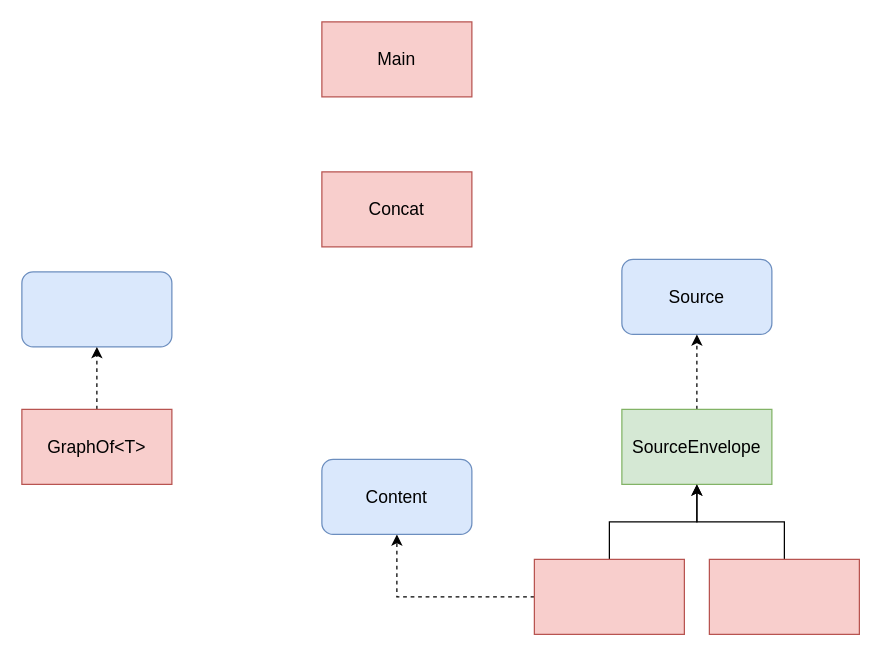
The diagram is 881 pixels wide and 656 high, and some of its shapes have lost their labels. The centre of each missing label's shape, as x and y in pixels:
"Graph<T>" goes at [96,309].
"SourceDirectory" goes at [783,596].
"SourceFile" goes at [608,596].
